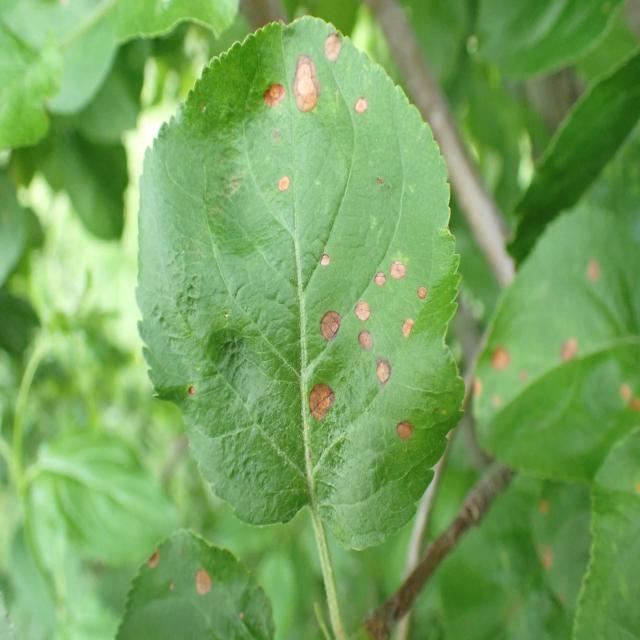frog-eye-leaf-spot: (136, 14, 465, 551), (115, 528, 276, 639)
